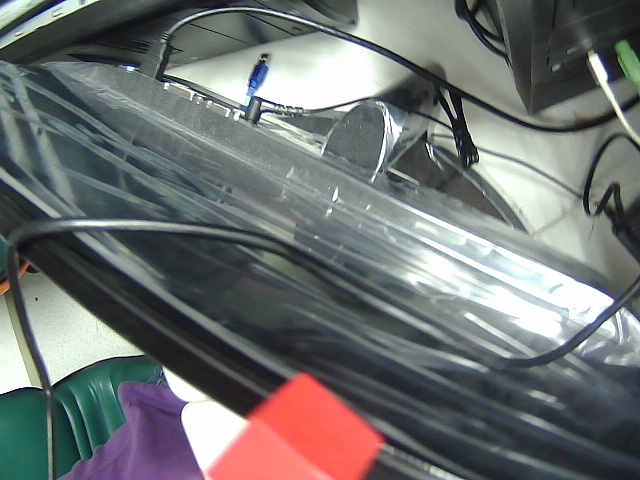redbox: (198, 367, 393, 480)
